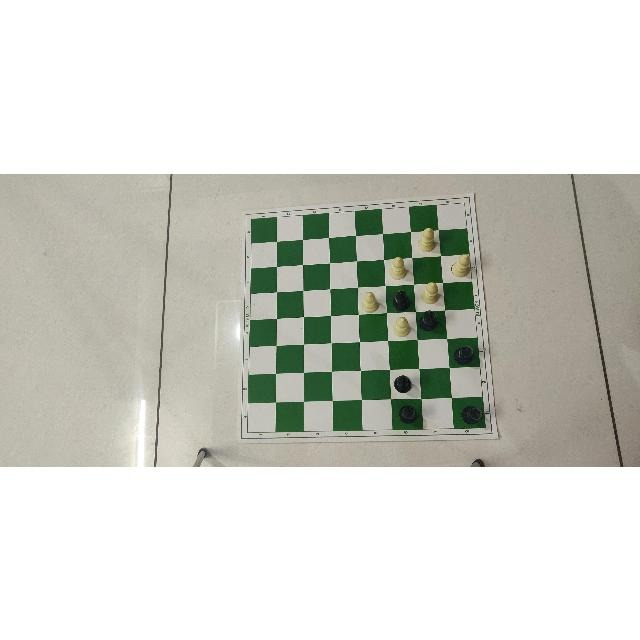black-bishop: (461, 403, 483, 424), (392, 286, 412, 309), (393, 374, 414, 394), (420, 309, 438, 332), (454, 345, 474, 365), (399, 404, 419, 424)
white-bishop: (451, 250, 471, 276), (389, 251, 407, 279), (418, 226, 437, 250), (421, 279, 439, 304), (393, 314, 411, 337), (361, 291, 379, 311)
